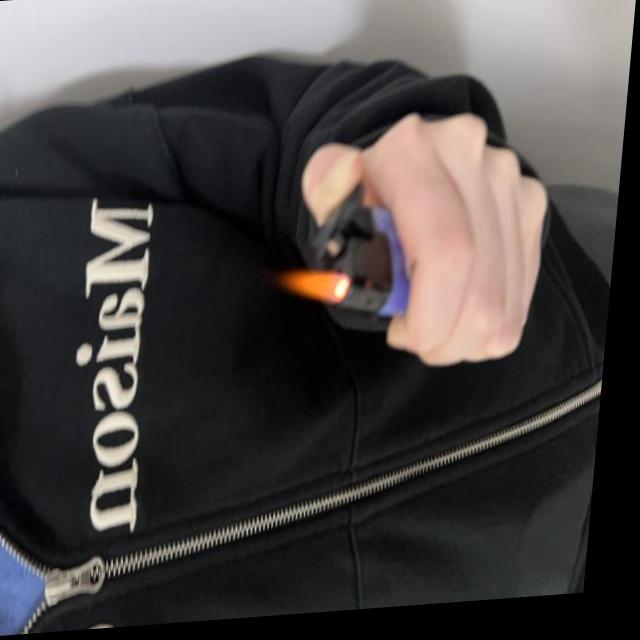Fire: (278, 270, 359, 314)
